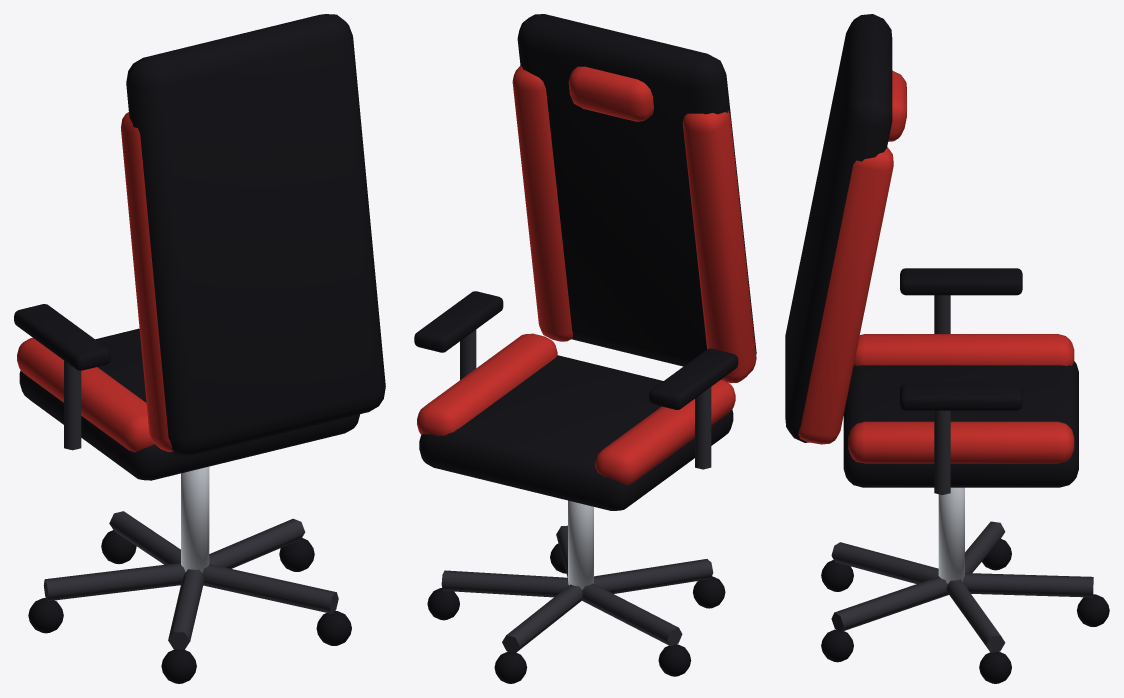
File: gaming_chair.glb
The picture shows the model from 3 angles, left to right: view 1: azimuth 30°, elevation 25°; view 2: azimuth 150°, elevation 25°; view 3: azimuth 270°, elevation 25°; orthographic projection. The views are drawn at different scales.
Visible parts, largest first — view 1: gaming_chair; view 2: gaming_chair; view 3: gaming_chair.
Boxes of the visible parts, x1,y1,x2,y2 form: gaming_chair: [14, 14, 385, 683]; gaming_chair: [414, 14, 756, 683]; gaming_chair: [785, 14, 1109, 683].
Size of the model in its own units: 0.66 by 1.33 by 0.6888.
